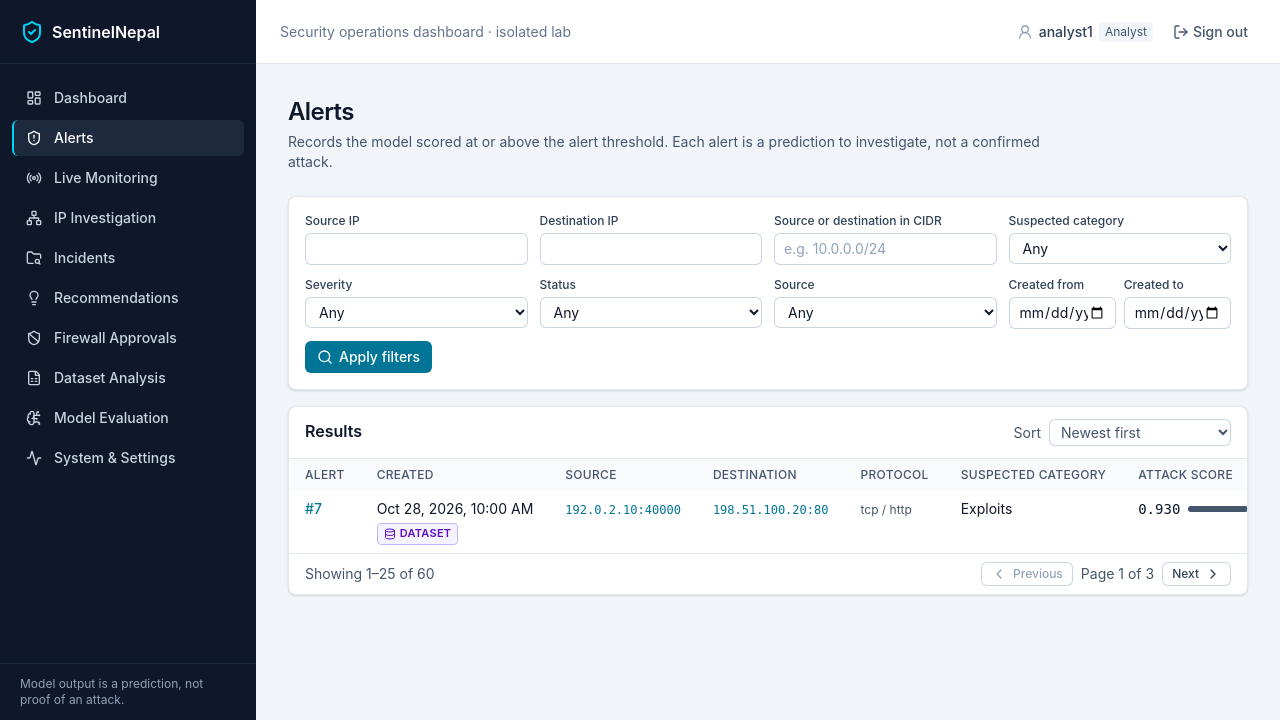
Test: AlertsPage › pages and sorts results
The width and height of the screenshot is (1280, 720).
Check: the text "Showing 1–25 of 60" is shown, box x1=305 y1=564 x2=435 y2=584
Click the button "Next" at {"x": 1197, "y": 574}, box x1=1162 y1=562 x2=1231 y2=586
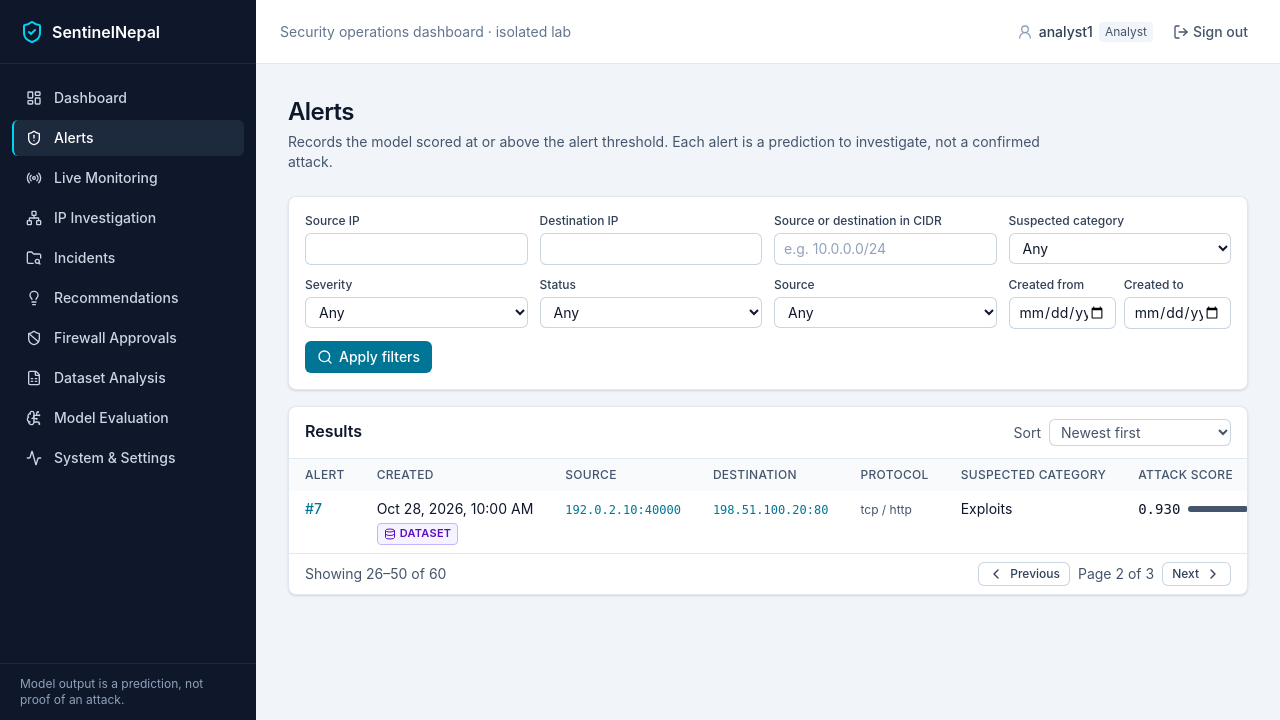
Check: the text "Showing 26–50 of 60" is shown, box x1=305 y1=564 x2=446 y2=584
Select "Highest score first" in the dropdown labelled "Sort" at {"x": 1140, "y": 432}, box x1=1049 y1=419 x2=1231 y2=446
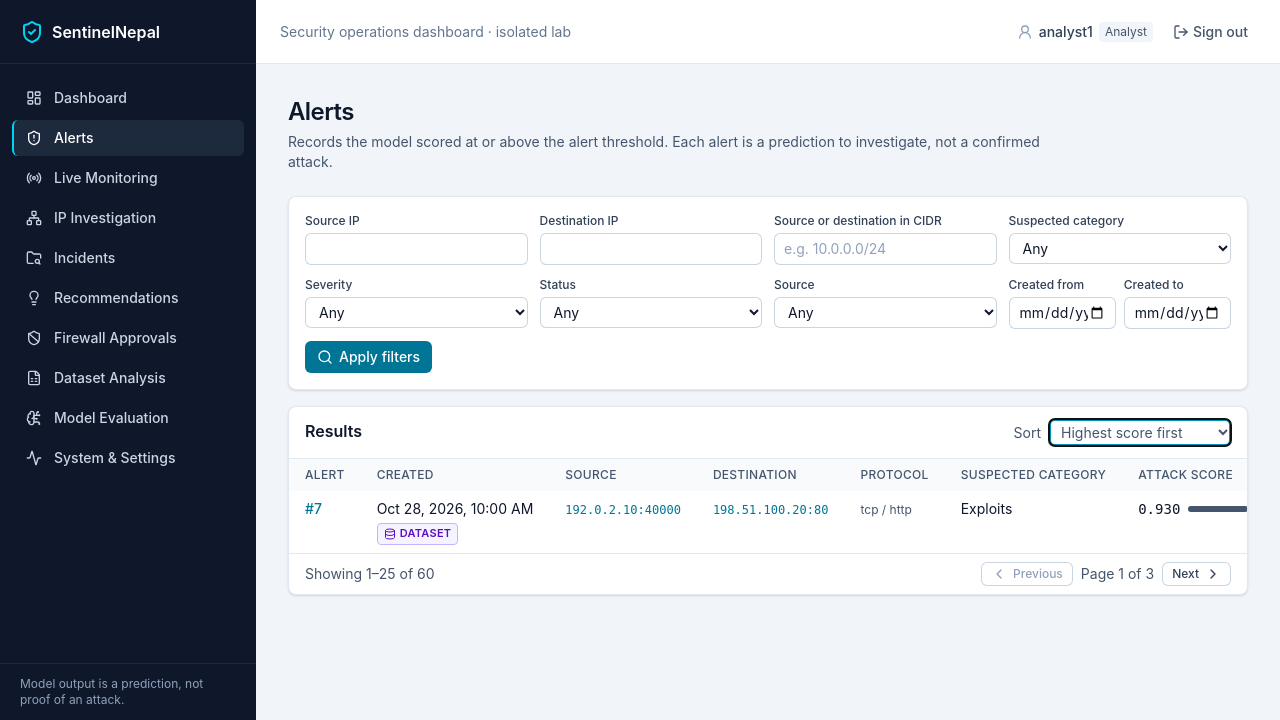
Check: the text "Showing 1–25 of 60" is shown, box x1=305 y1=564 x2=435 y2=584
